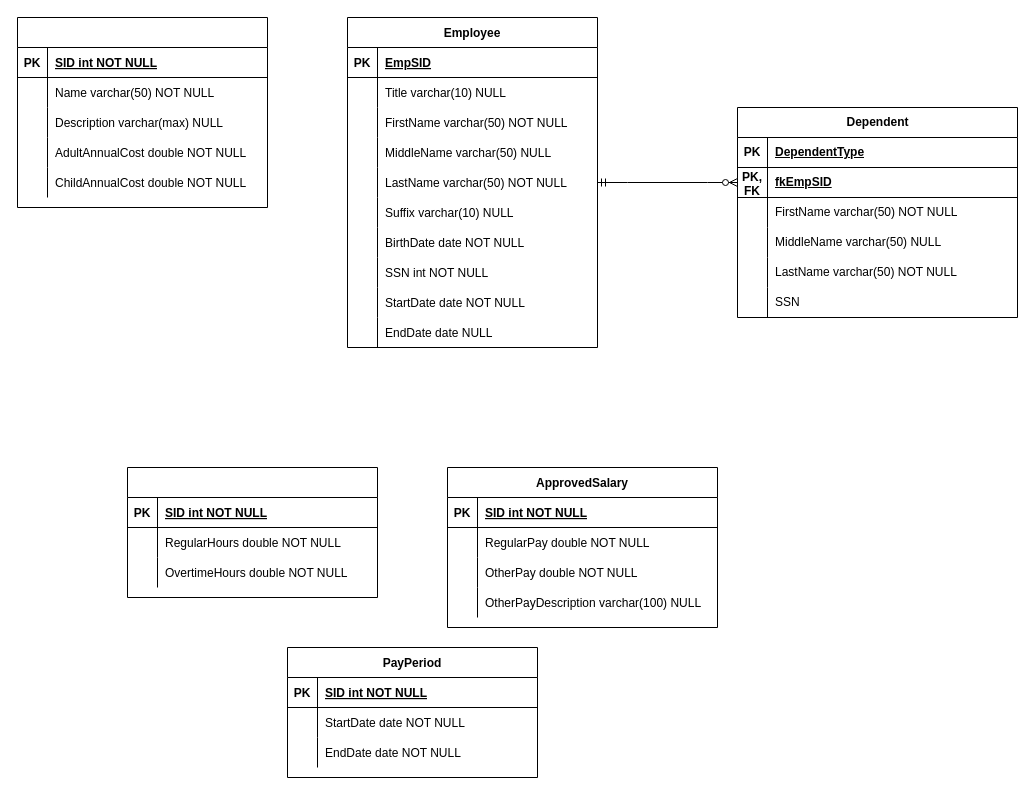
Image size: 1035x795. Some labels were removed from this diagram. Here are the shapes that lost their labels. From the top down, the box of each, then its label:
(16, 16, 268, 208): HealthPlan
(126, 466, 378, 598): ApprovedTimeSheet
